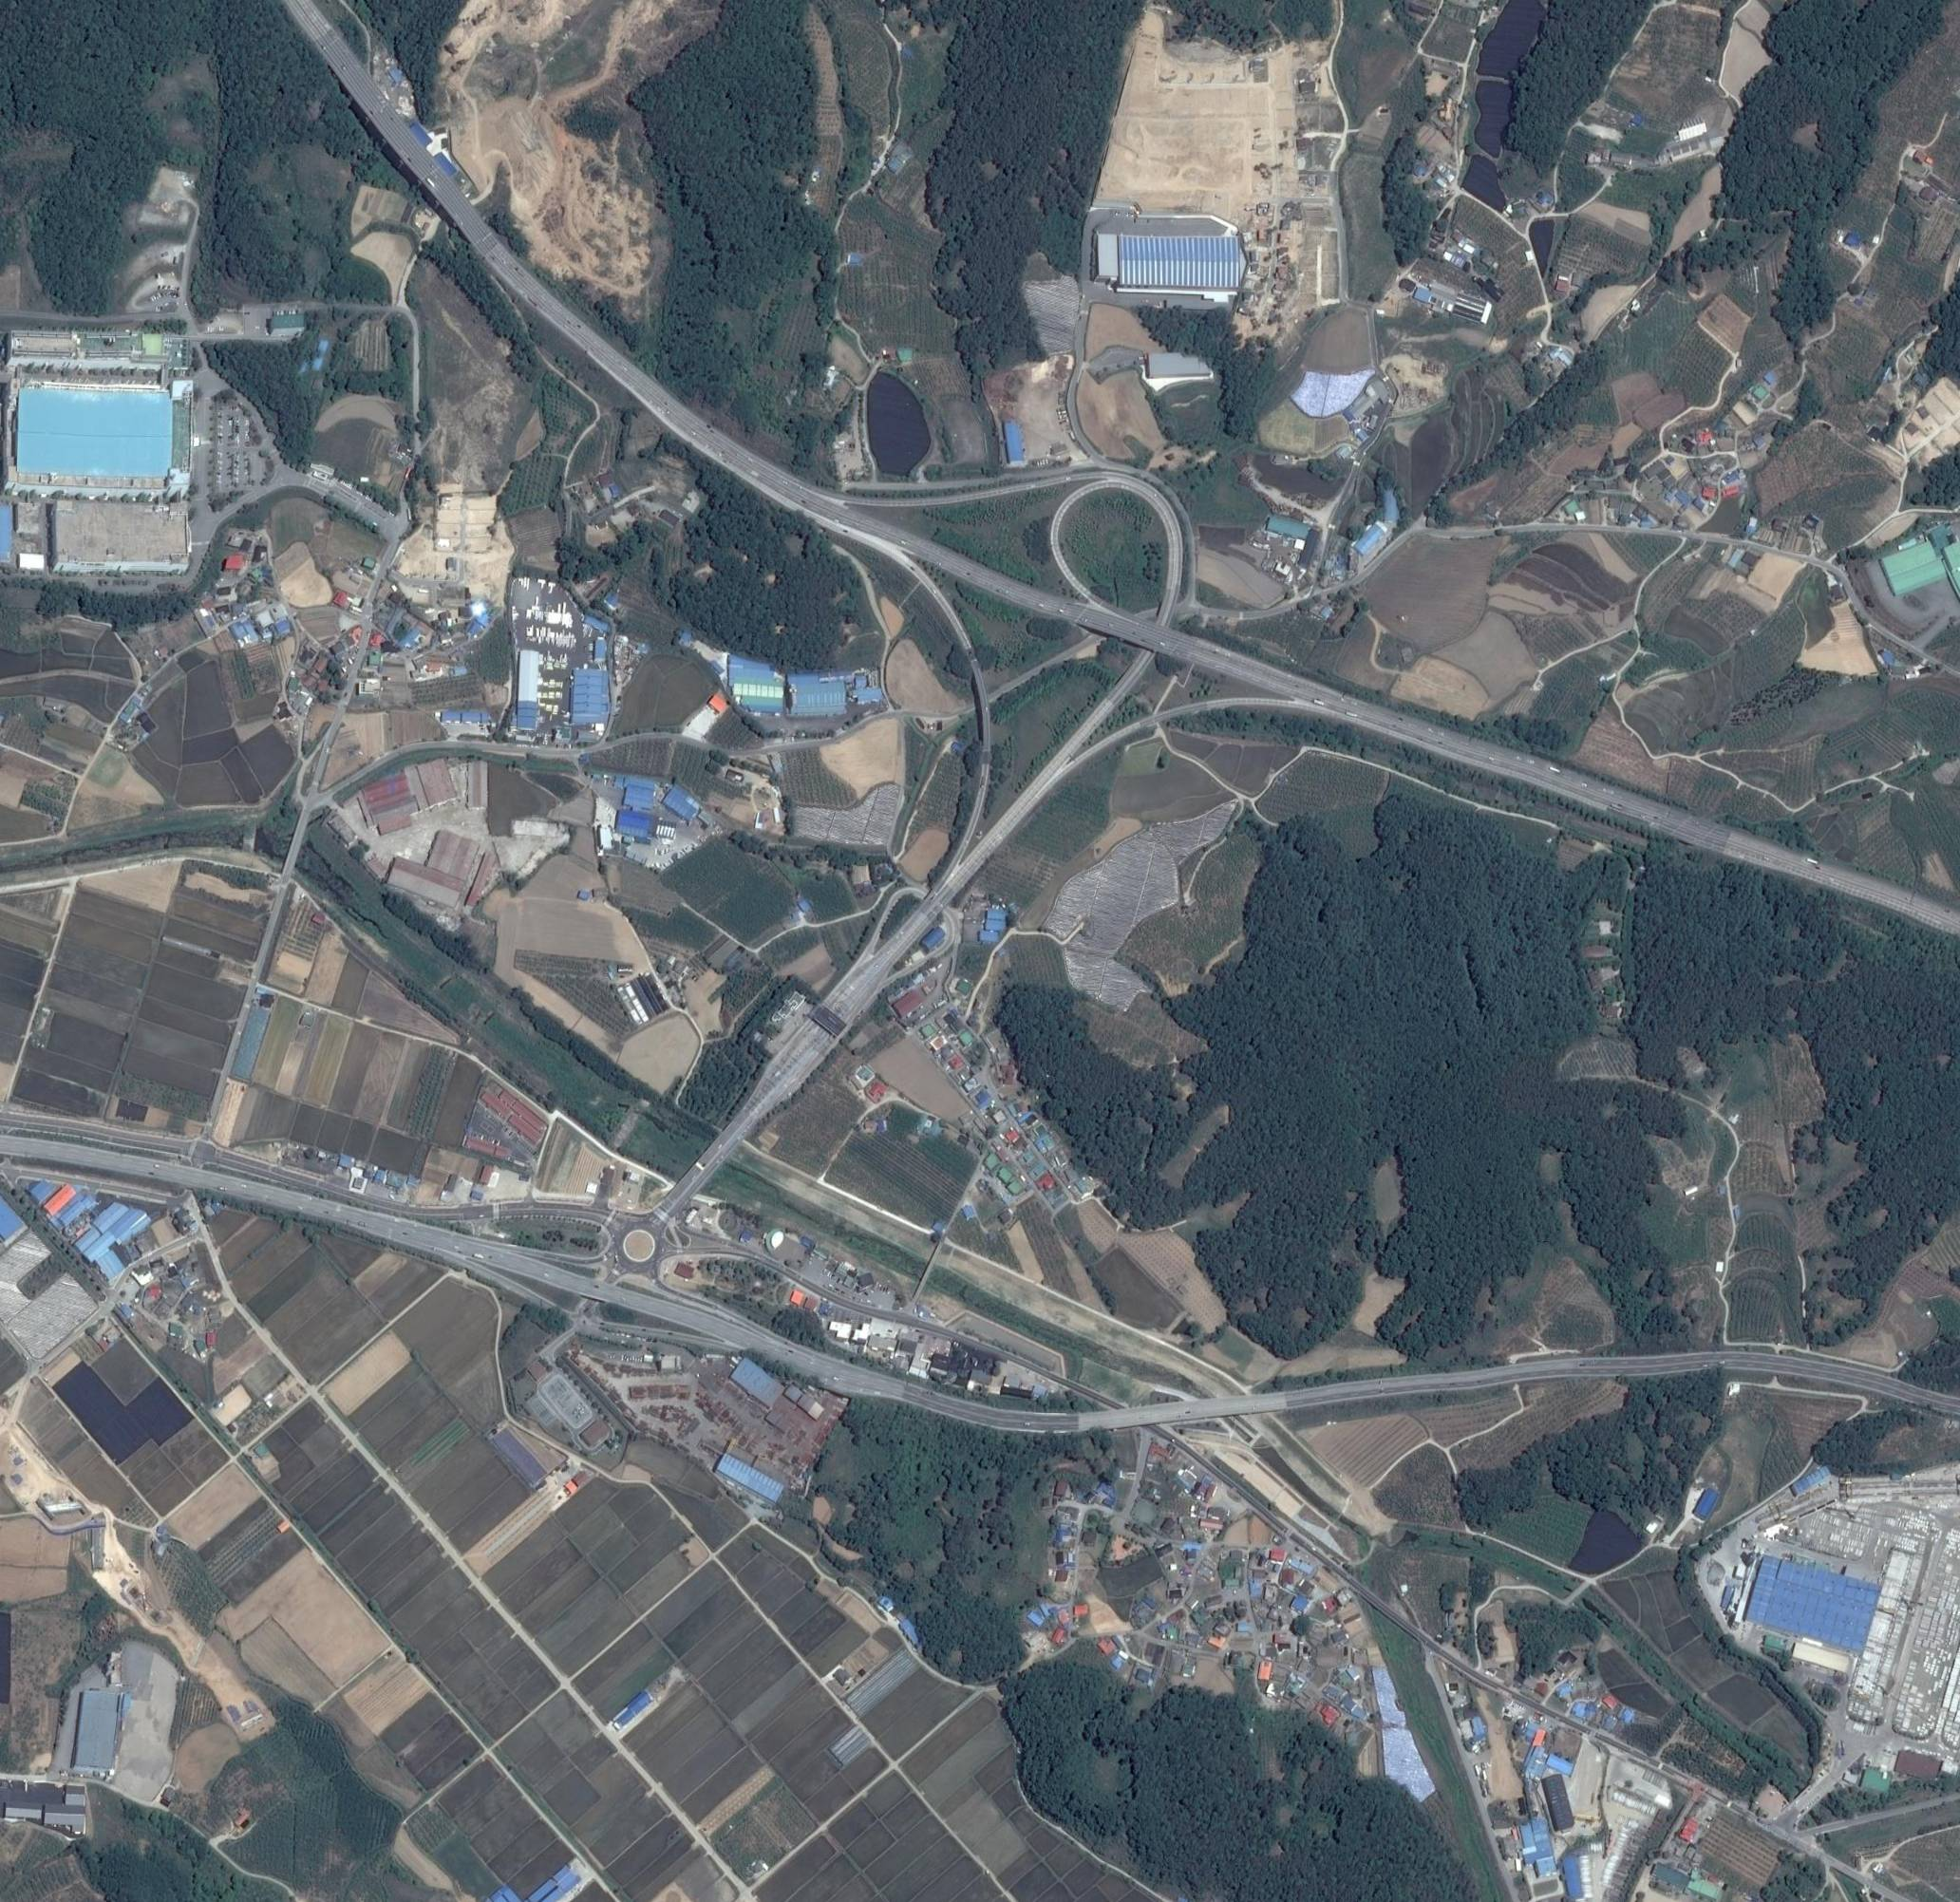bridge: (1078, 1389, 1288, 1435), (675, 1127, 742, 1200), (282, 805, 317, 880)
